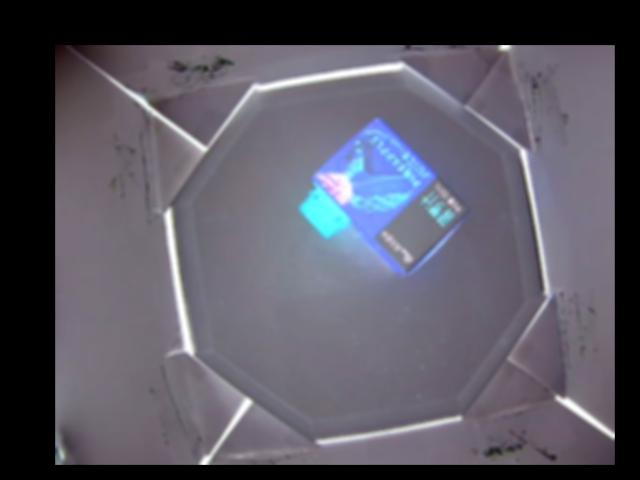Bottle: (296, 120, 467, 282)
